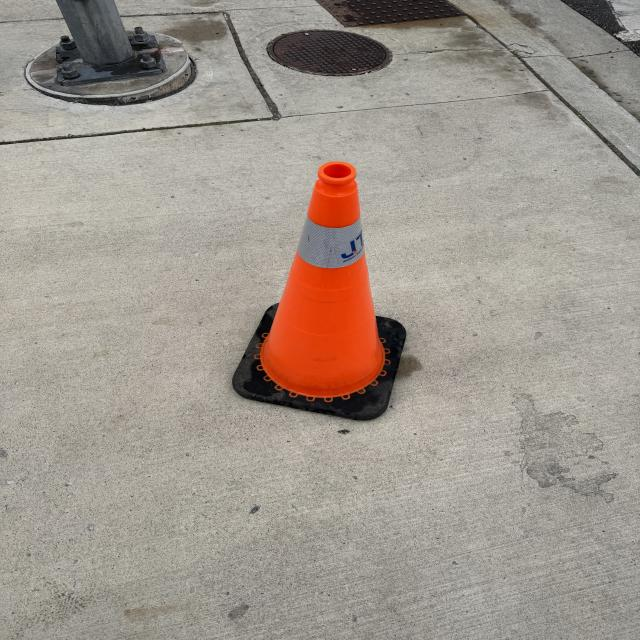Traffic Cone: (232, 160, 409, 419)
